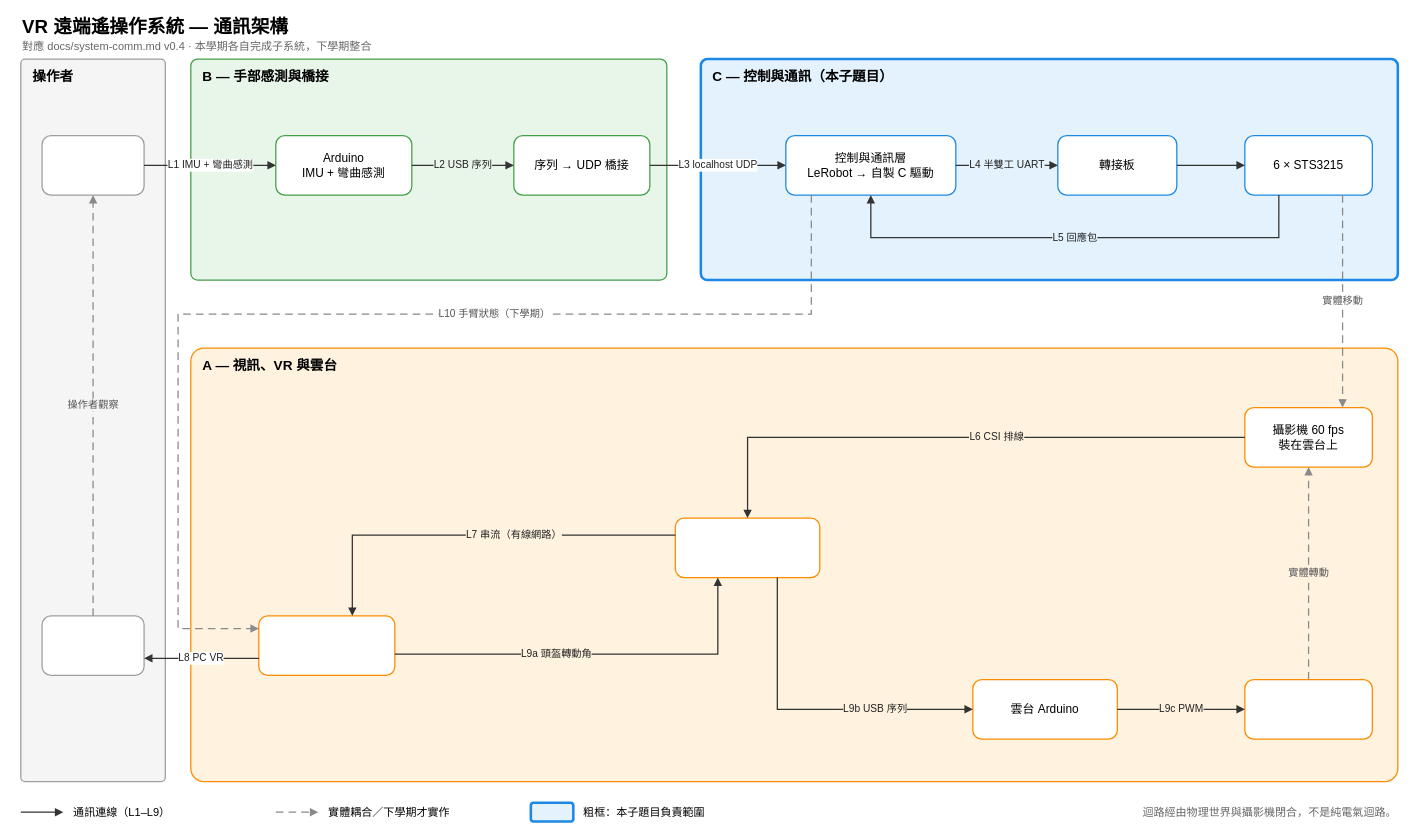
The diagram is 1414 pixels wide and 837 high, and some of its shapes have lost their labels. Here are the shapes that lost their labels. From the top down, the centre of each, then its label:
[92,165]: 操作者的手
[747,547]: Raspberry Pi
[92,645]: VIVE 頭盔
[326,645]: Unity
[1308,709]: SG-90 × 1 左右單軸
